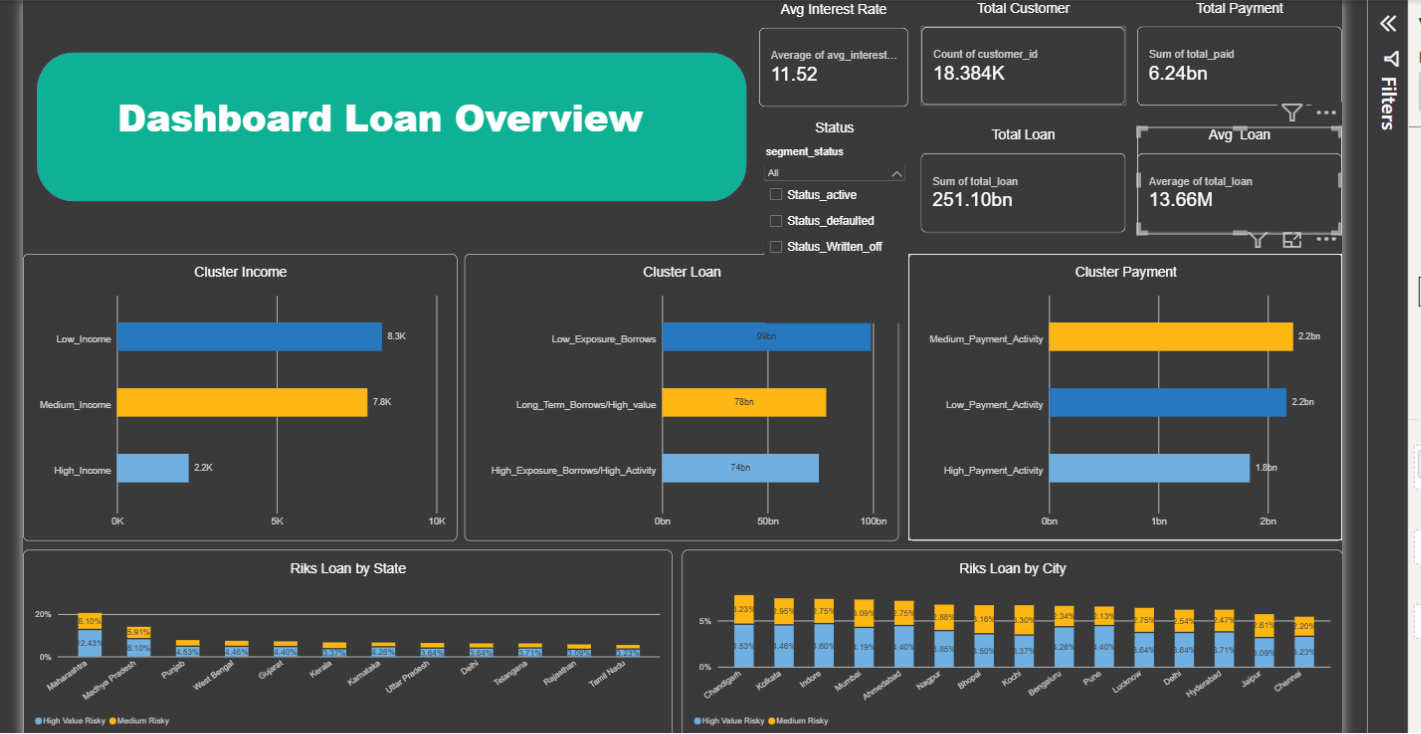

What the dashboard file says about the page in this screenshot:
{"tool":"powerbi","page":{"name":"Page 1","canvas":[1920,1080],"ordinal":0},"visuals":[{"type":"cardVisual","title":"Total Customer","fields":{"Data":["CountNonNull(All_customer_cluster.customer_id)"]},"box":[1306.6,0,298.5,154.4],"z":0},{"type":"cardVisual","title":"Total Loan","fields":{"Data":["Sum(Customer_loan_cluster.total_loan)"]},"box":[1306.6,184.6,298.5,154.4],"z":1000},{"type":"cardVisual","title":"Total Payment","fields":{"Data":["Sum(Customer_payment_cluster.total_paid)"]},"box":[1621.5,0,298.6,153.8],"z":2000},{"type":"cardVisual","title":"Avg  Loan","fields":{"Data":["Avg(Customer_final_cluster.total_loan)"]},"box":[1622,185.2,298.5,154.4],"z":3000},{"type":"barChart","title":"Cluster Payment","fields":{"Y":["Sum(Customer_payment_cluster.total_paid)"],"Category":["Customer_payment_cluster.segment_payment"]},"box":[1288.5,368.4,631.9,417.8],"z":4000},{"type":"barChart","title":"Cluster Loan","fields":{"Y":["Sum(Customer_loan_cluster.total_loan)"],"Category":["Customer_loan_cluster.segment"]},"box":[642.2,368.4,631.9,417.8],"z":5000},{"type":"barChart","title":"Cluster Income","fields":{"Category":["Customer Income.customer_segment"],"Y":["CountNonNull(Customer Income.income_cluster)"]},"box":[0,368.4,631.9,417.8],"z":6000},{"type":"columnChart","title":"Riks Loan by State","fields":{"Category":["All_customer_cluster.state"],"Y":["CountNonNull(All_customer_cluster.final_segment)"],"Series":["All_customer_cluster.final_segment"]},"box":[0,800.7,944.8,279.9],"z":7000},{"type":"columnChart","title":"Riks Loan by City","fields":{"Category":["All_customer_cluster.city"],"Y":["CountNonNull(All_customer_cluster.final_segment)"],"Series":["All_customer_cluster.final_segment"]},"box":[959.2,800.7,961.2,279.9],"z":8000},{"type":"slicer","title":"Status","fields":{"Values":["All_customer_cluster.segment_status"]},"box":[1073.1,173.7,216.1,88.5],"z":9000},{"type":"slicer","title":"Type Loan","fields":{"Values":["All_customer_cluster.segment_type"]},"box":[1071.3,280.5,216.1,88.5],"z":10000},{"type":"shape","box":[19.9,76,1033.3,217.2],"z":11000},{"type":"textbox","box":[137.5,132.1,773.9,84.4],"z":12000},{"type":"cardVisual","title":"Avg Interest Rate","fields":{"Data":["Avg(Customer_loan_cluster.avg_interest_rate)"]},"box":[1071.3,1.8,217.2,153.8],"z":13000}]}

Visuals, with their boxes in screenshot pixels (x1, y1, x2, y2):
"Total Customer" cardVisual: bbox(993, 4, 1192, 107)
"Total Loan" cardVisual: bbox(993, 127, 1192, 231)
"Total Payment" cardVisual: bbox(1203, 4, 1403, 107)
"Avg  Loan" cardVisual: bbox(1204, 128, 1403, 231)
"Cluster Payment" barChart: bbox(980, 250, 1403, 530)
"Cluster Loan" barChart: bbox(548, 250, 971, 530)
"Cluster Income" barChart: bbox(118, 250, 541, 530)
"Riks Loan by State" columnChart: bbox(118, 539, 751, 727)
"Riks Loan by City" columnChart: bbox(760, 539, 1403, 727)
"Status" slicer: bbox(836, 120, 981, 179)
"Type Loan" slicer: bbox(835, 191, 980, 251)
shape: bbox(132, 55, 823, 200)
textbox: bbox(210, 92, 728, 149)
"Avg Interest Rate" cardVisual: bbox(835, 5, 980, 108)
